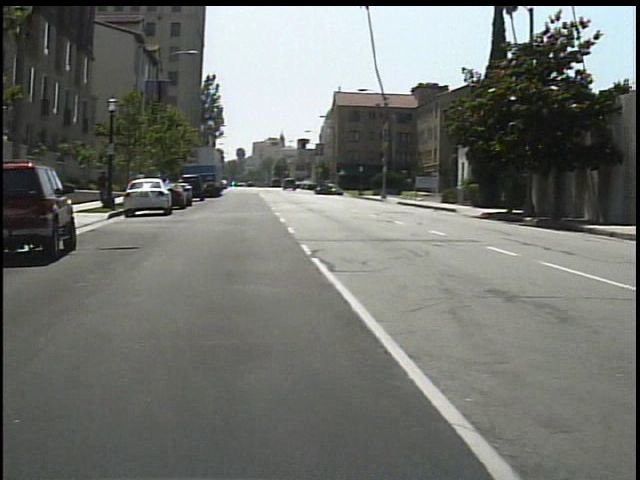person: (91, 167, 104, 209)
